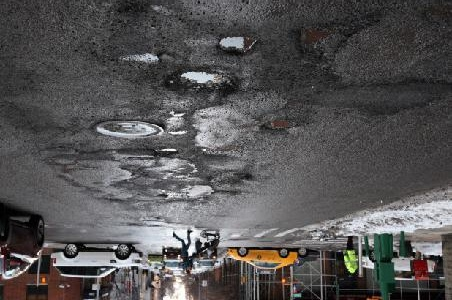pothole: (167, 66, 238, 95), (291, 23, 336, 57), (214, 32, 259, 59), (258, 117, 305, 135), (156, 147, 180, 157)
